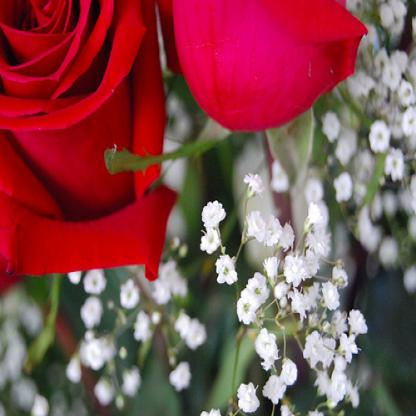ROSE-MAWAR: (1, 1, 341, 266)
